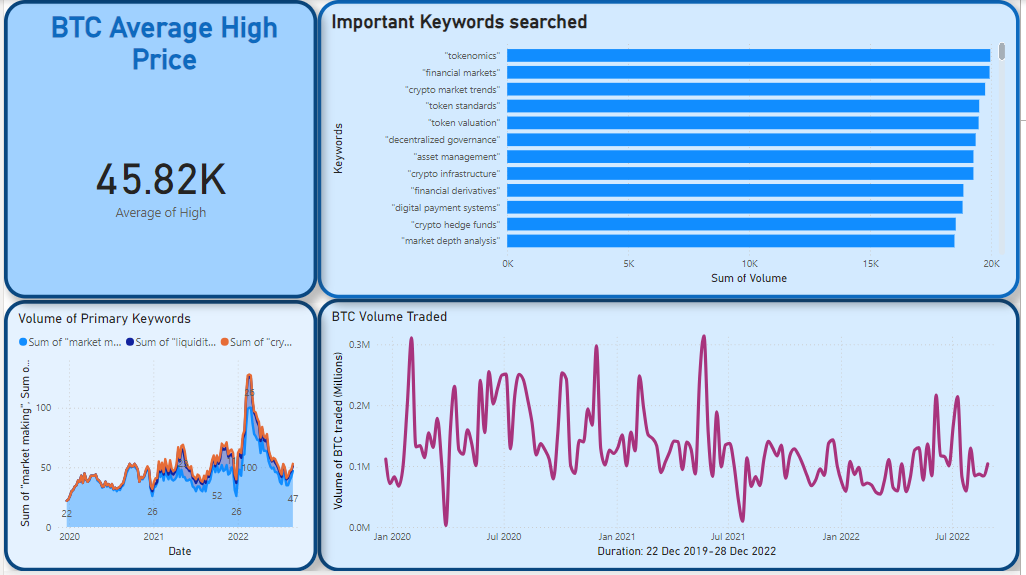

The dashboard page shown, as its layout file describes it:
{"tool":"powerbi","page":{"name":"Page 1","canvas":[1280,720],"ordinal":0},"visuals":[{"type":"lineChart","title":"BTC Volume Traded","fields":{"Category":["bitcoin.Date"],"Y":["Sum(bitcoin.Volume)"]},"box":[395,376.1,884.4,343.9],"z":0},{"type":"clusteredBarChart","title":"Important Keywords searched","fields":{"Category":["Sheet1.Keywords"],"Y":["Sum(Sheet1.Volume)"]},"box":[395,0,884.4,376.1],"z":1000},{"type":"stackedAreaChart","title":"Volume of Primary Keywords","fields":{"Category":["Keywords Research.Date"],"Y":["Sum(Keywords Research.\"market making\")","Sum(Keywords Research.\"liquidity crypto\")","Sum(Keywords Research.\"crypto mm\")"]},"box":[0,378,395,342],"z":1001},{"type":"card","title":"BTC Average High Price","fields":{"Values":["Avg(bitcoin.High)"]},"box":[0,0,395,376.1],"z":1002}]}

Visuals, with their boxes in screenshot pixels (x1, y1, x2, y2), scaled from the page's 1280x720 canvas onto the 1026x575 screenshot:
"BTC Volume Traded" lineChart: bbox(317, 300, 1025, 574)
"Important Keywords searched" clusteredBarChart: bbox(317, 0, 1025, 300)
"Volume of Primary Keywords" stackedAreaChart: bbox(0, 302, 317, 574)
"BTC Average High Price" card: bbox(0, 0, 317, 300)
